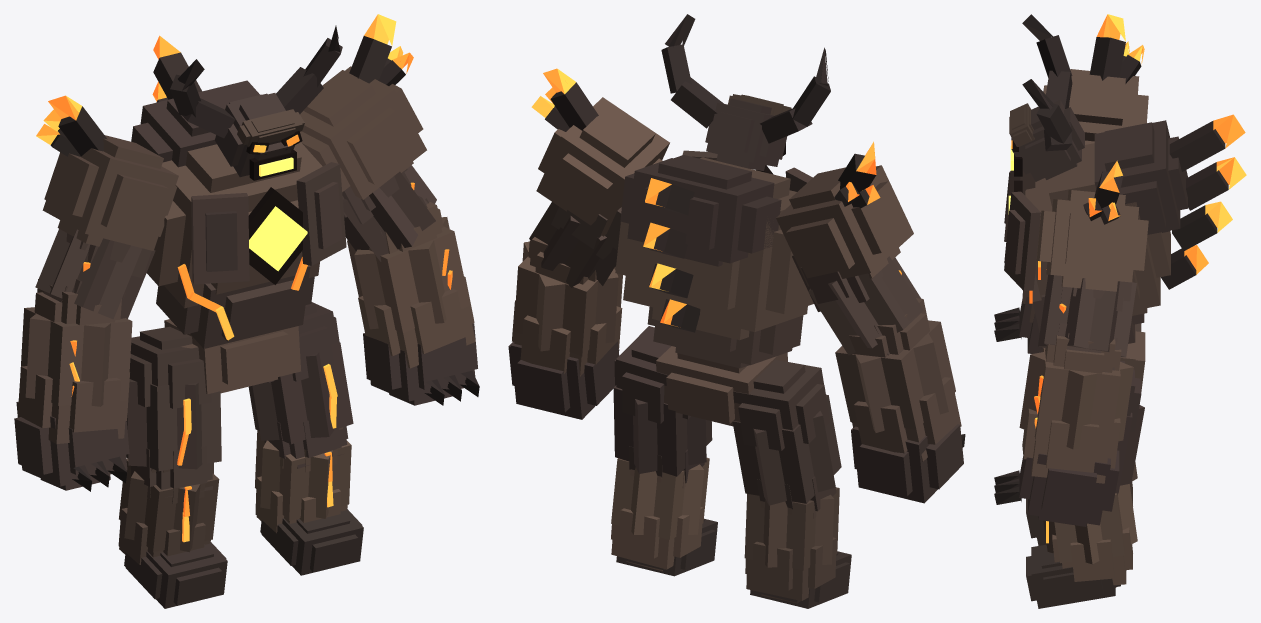
The picture shows the model from 3 angles, left to right: view 1: azimuth 30°, elevation 25°; view 2: azimuth 150°, elevation 25°; view 3: azimuth 270°, elevation 25°; orthographic projection. The views are drawn at different scales.
Visible parts, largest first — view 1: CinderBrute; view 2: CinderBrute; view 3: CinderBrute.
Boxes of the visible parts, x1,y1,x2,y2 form: CinderBrute: (14,14,479,608); CinderBrute: (508,14,965,608); CinderBrute: (994,14,1246,608).
Size of the model in its own units: 1.26 by 1.5 by 0.665.
